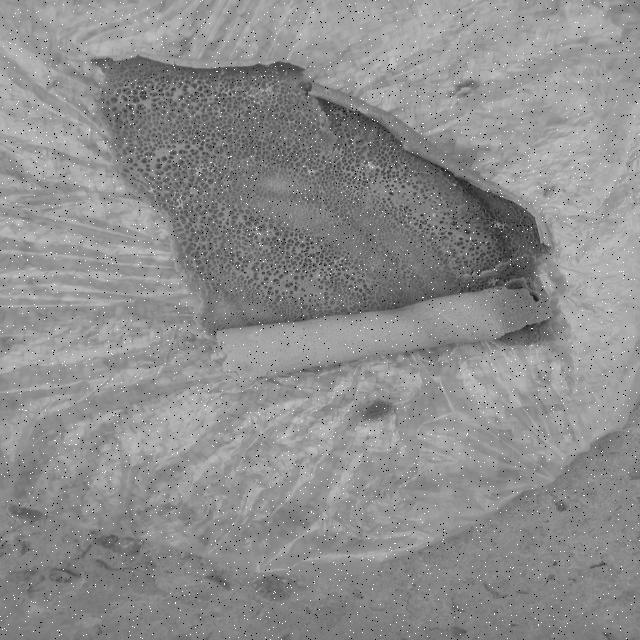injera_mold: (244, 82, 282, 105), (188, 162, 220, 178), (167, 189, 185, 208), (326, 147, 346, 164), (356, 161, 382, 174), (229, 108, 248, 120), (298, 88, 315, 101), (490, 220, 510, 230), (316, 269, 333, 279), (166, 82, 180, 94), (213, 79, 229, 89), (333, 256, 347, 265), (488, 277, 502, 286), (262, 72, 274, 80), (146, 186, 157, 194), (240, 75, 250, 83), (250, 332, 263, 338), (186, 80, 196, 87), (369, 264, 379, 270), (128, 103, 136, 110), (308, 169, 318, 174), (287, 119, 297, 124), (119, 95, 126, 102), (351, 186, 359, 192), (318, 189, 324, 194), (432, 212, 437, 217), (452, 183, 457, 186), (303, 165, 306, 167)
